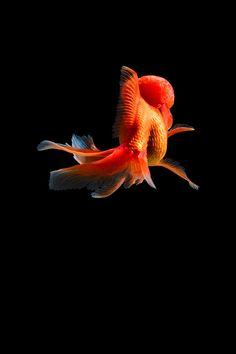goldfish: (38, 55, 208, 218)
